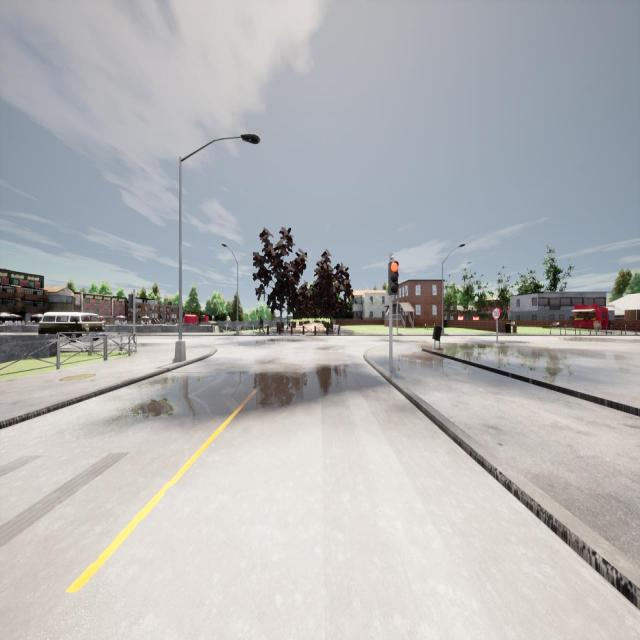Pedestrian: (257, 316, 265, 333)
Traffic_Signs: (492, 307, 500, 320)
Vehicle: (39, 312, 104, 343)
traffic_light: (389, 262, 399, 296), (128, 294, 134, 309)
